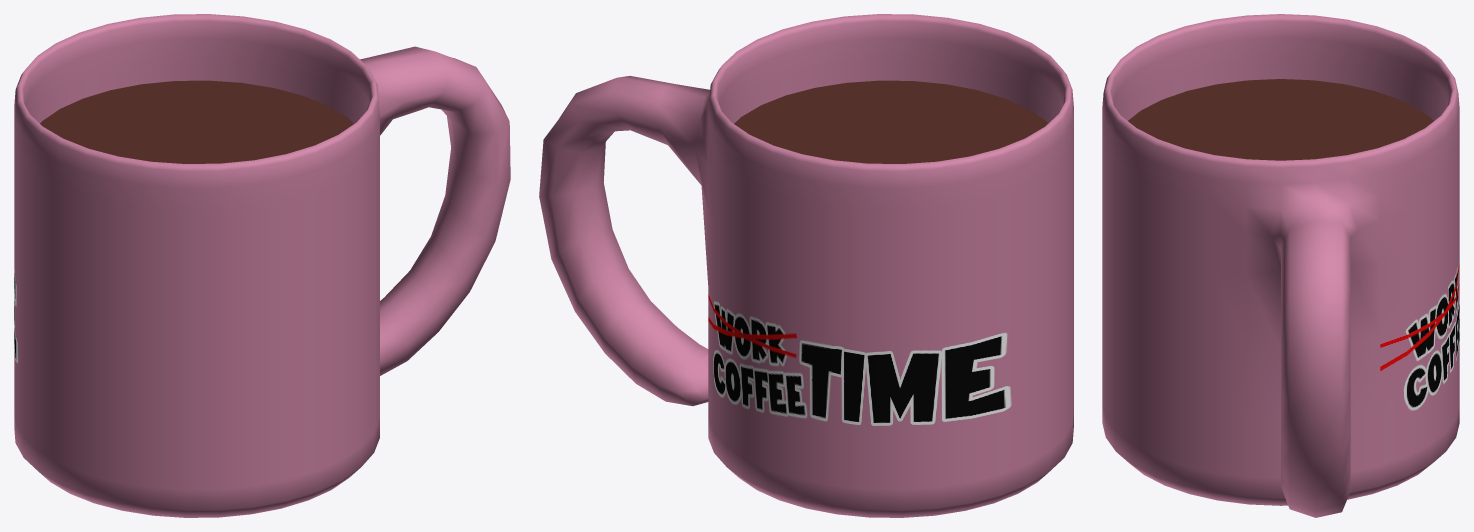
The model's file is Coffee.fbx.
3 renders of one model, left to right at view 1: azimuth 30°, elevation 25°; view 2: azimuth 150°, elevation 25°; view 3: azimuth 270°, elevation 25°, orthographic. The views are drawn at different scales.
Parts seen in each view (by area): view 1: Coffee Cup1; view 2: Coffee Cup1; view 3: Coffee Cup1.
Boxes of the visible parts, x1,y1,x2,y2 form: Coffee Cup1: (14,14,510,517); Coffee Cup1: (539,14,1073,517); Coffee Cup1: (1102,14,1459,517).
Size of the model in its own units: 37.87 by 26.74 by 24.84.
2 materials, 1 textured.
